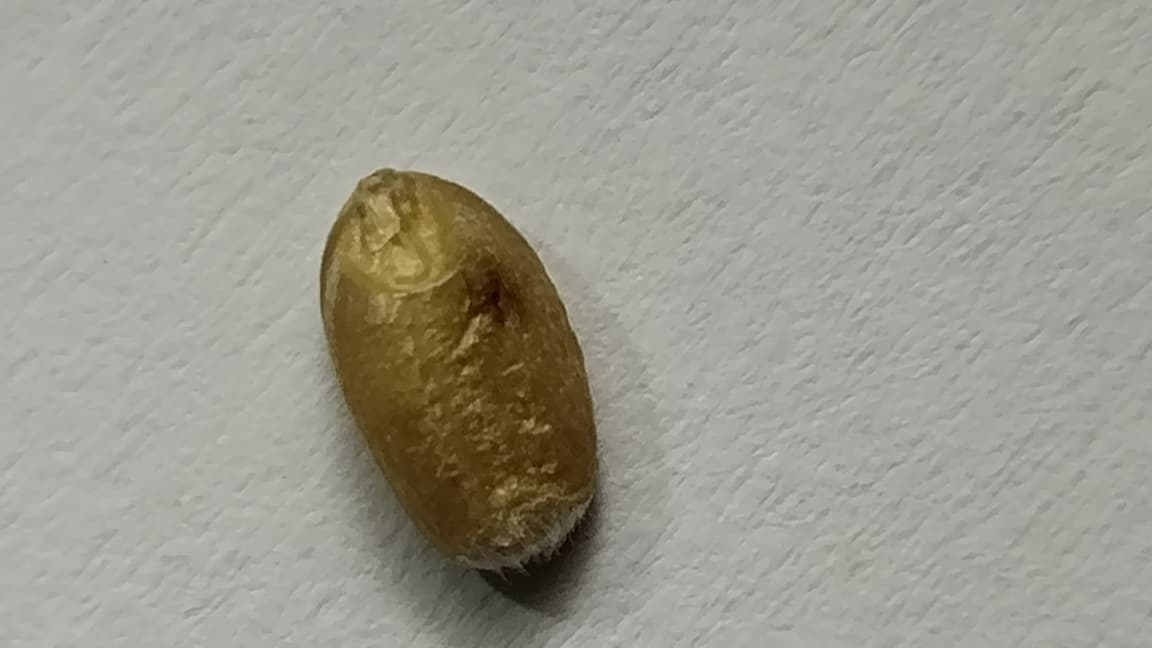black_point: (449, 250, 538, 361)
healthy: (322, 169, 596, 566)
